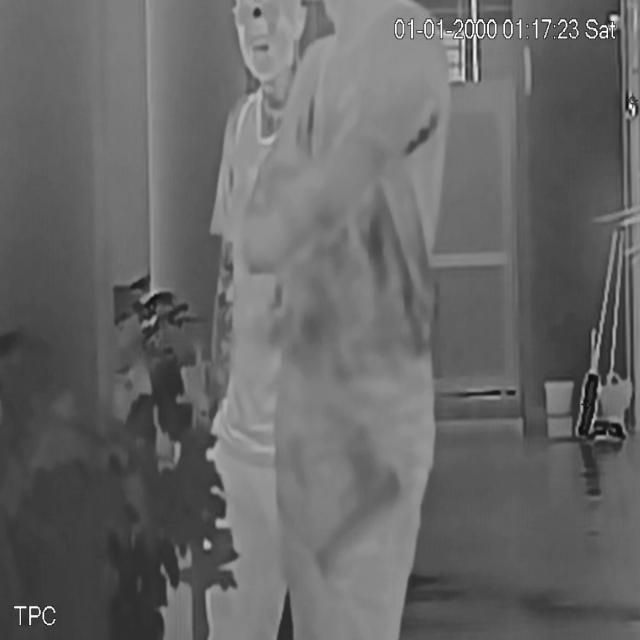Weapon: (289, 414, 408, 572)
